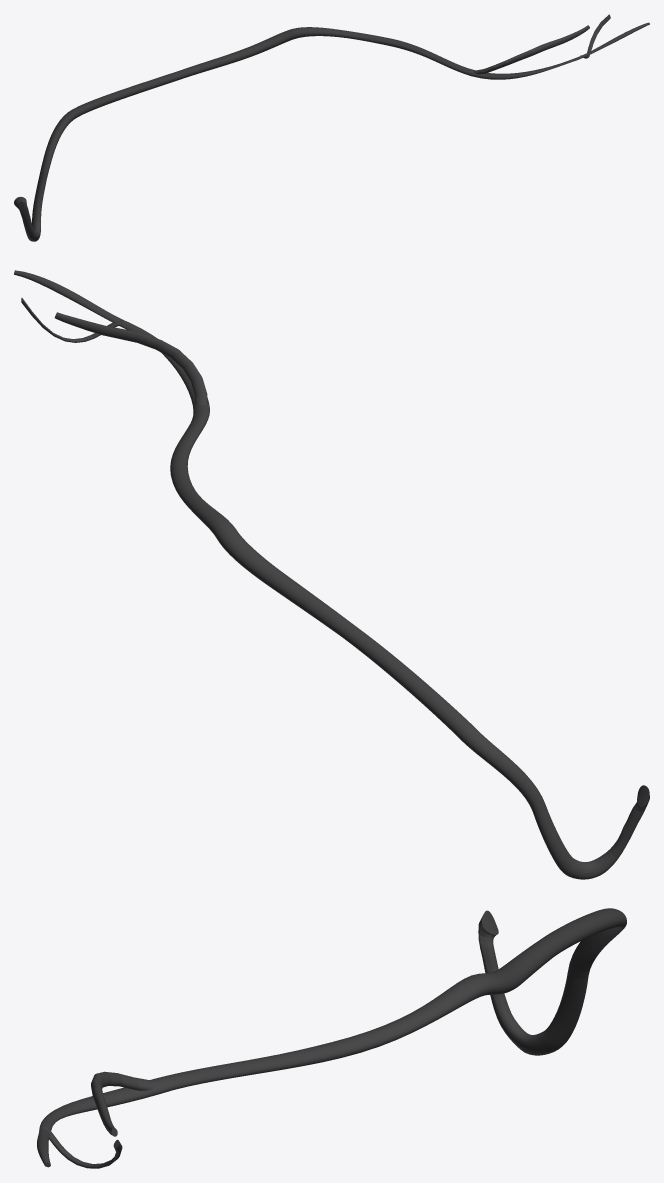
Rendered from N_4_trochlear.glb.
The picture shows the model from 3 angles, top to bottom: view 1: azimuth 30°, elevation 25°; view 2: azimuth 150°, elevation 25°; view 3: azimuth 270°, elevation 25°; orthographic projection. The views are drawn at different scales.
Parts seen in each view (by area): view 1: N_4_trochlear; view 2: N_4_trochlear; view 3: N_4_trochlear.
Boxes of the visible parts, x1,y1,x2,y2 form: N_4_trochlear: [14, 14, 649, 241]; N_4_trochlear: [14, 270, 649, 879]; N_4_trochlear: [37, 908, 626, 1168].
Bounding box in the file's own units: 0.0315 × 0.0108 × 0.0154.
1 material, 1 textured.
